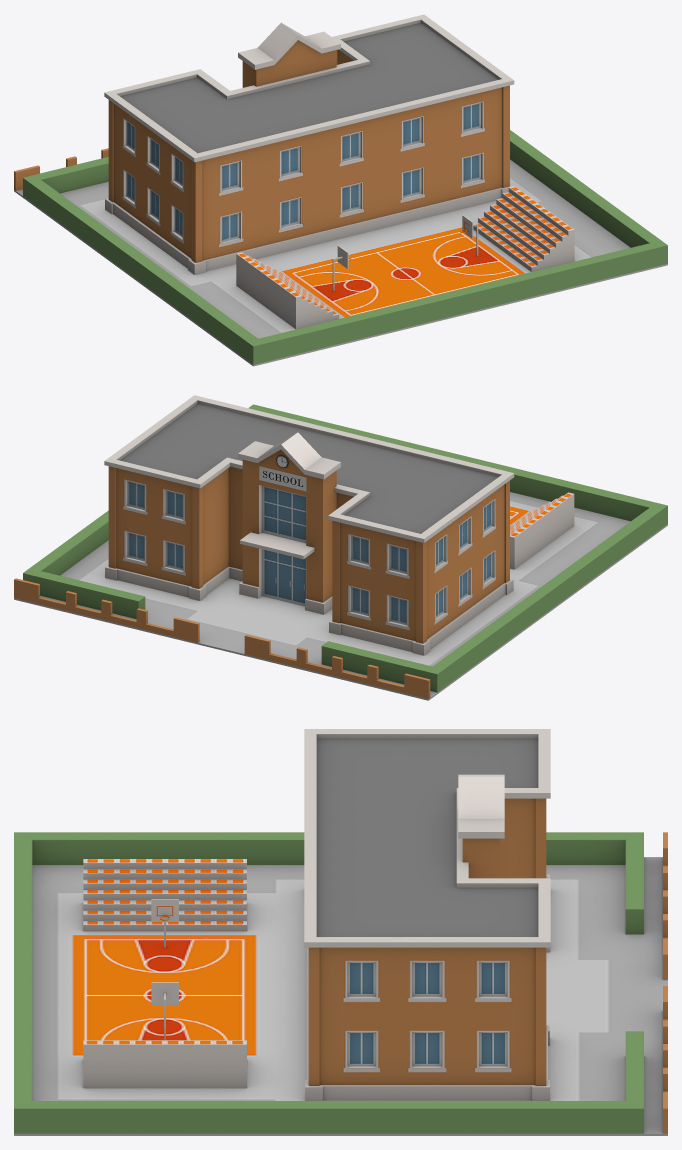
The model's file is HOS0610003.fbx.
The picture shows the model from 3 angles, top to bottom: view 1: azimuth 30°, elevation 25°; view 2: azimuth 150°, elevation 25°; view 3: azimuth 270°, elevation 25°; orthographic projection. The views are drawn at different scales.
Visible parts, largest first — view 1: smHOS0610003; view 2: smHOS0610003; view 3: smHOS0610003.
Boxes of the visible parts, x1,y1,x2,y2 form: smHOS0610003: [14, 14, 667, 366]; smHOS0610003: [14, 395, 667, 700]; smHOS0610003: [14, 729, 667, 1135].
Size of what is drawn, in the model's own units: 2933 by 1094 by 2933.
Materials: 1 (1 with a texture image).
